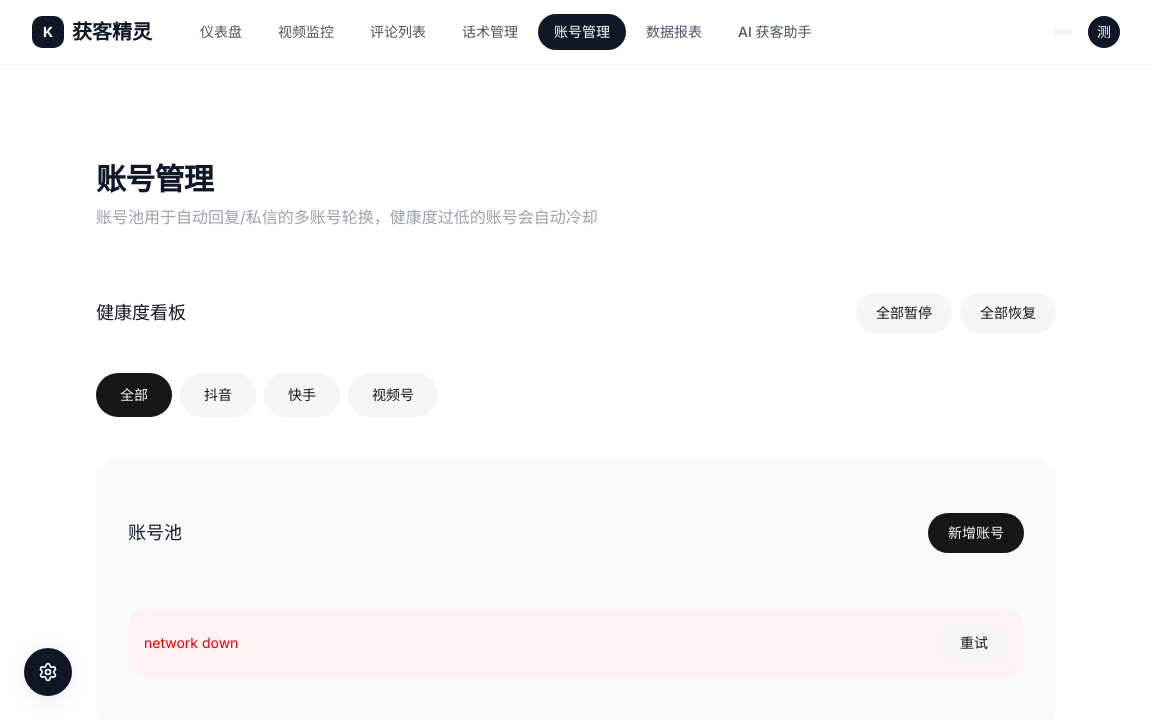
accounts/page.tsx 数据加载失败态 › 点击「重试」重新拉取，成功后渲染空态
The width and height of the screenshot is (1152, 720).
Click the button "重试".
click(974, 643)  # box [940, 625, 1008, 661]
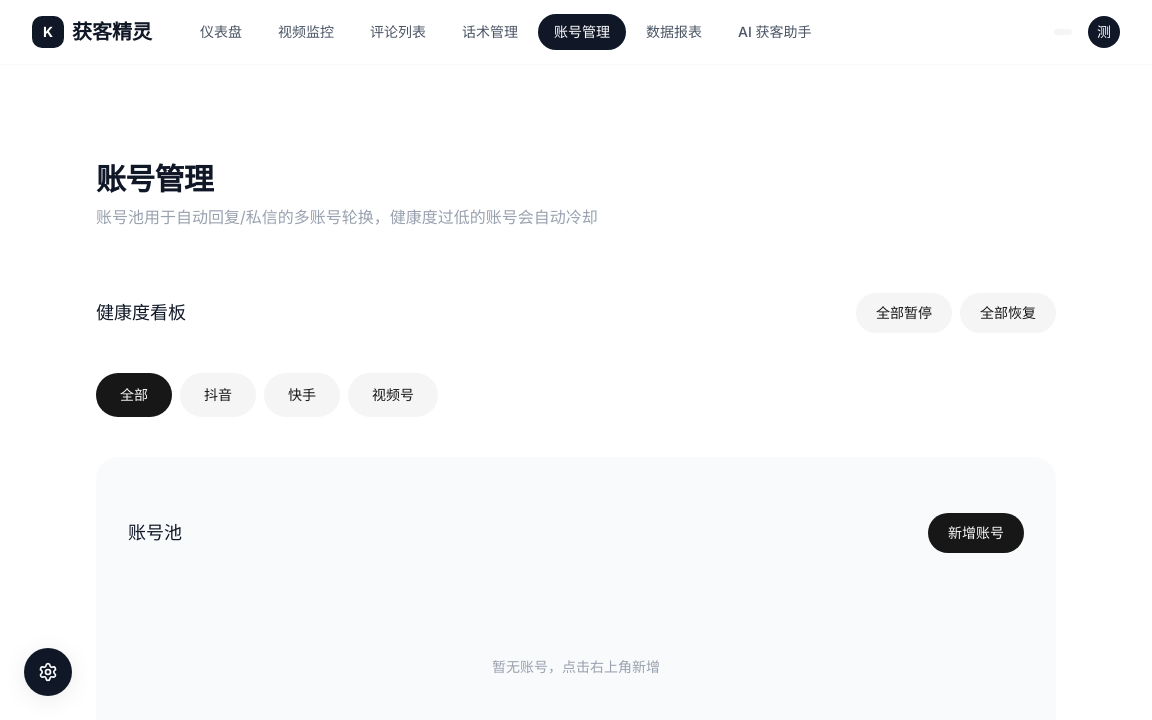
expect the text "network down" is gone: met
expect the text "暂无账号" is shown: met, box [492, 658, 660, 675]
